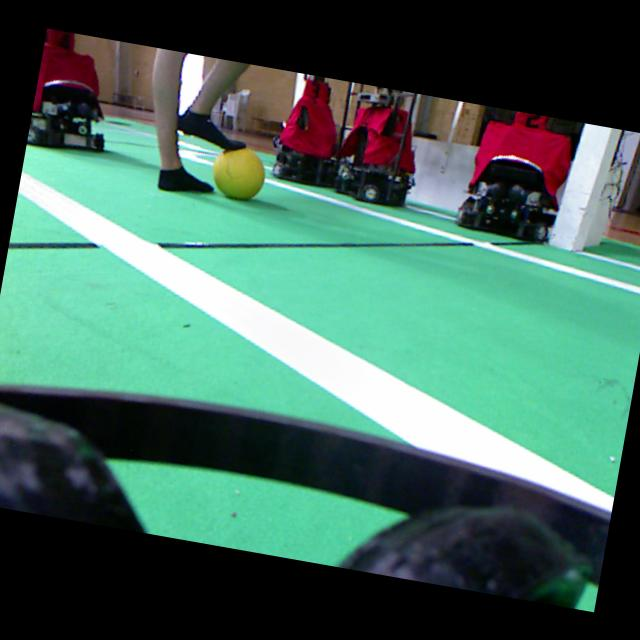ball: (212, 148, 263, 199)
goal: (548, 123, 611, 250)
